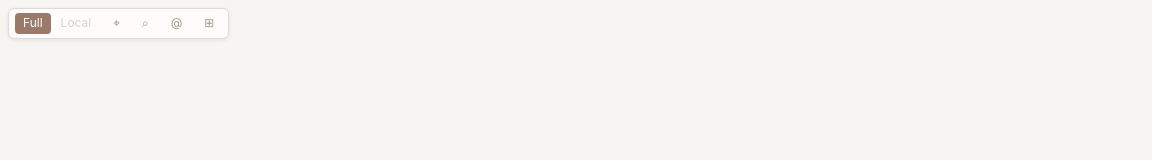
GraphView › clicking toolbar search button opens search
The image size is (1152, 160).
Click the button named "Search graph": click(145, 23) [134,13,157,34]
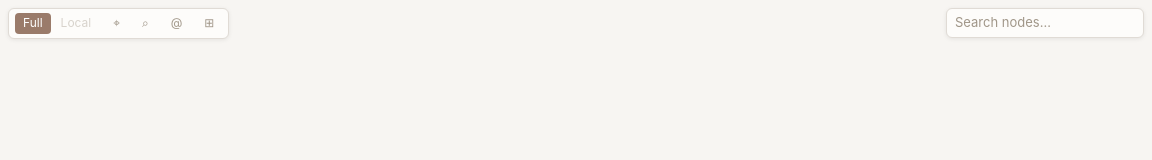
Expected: the element with test id "graph-search" is shown, [946,8,1144,38]
